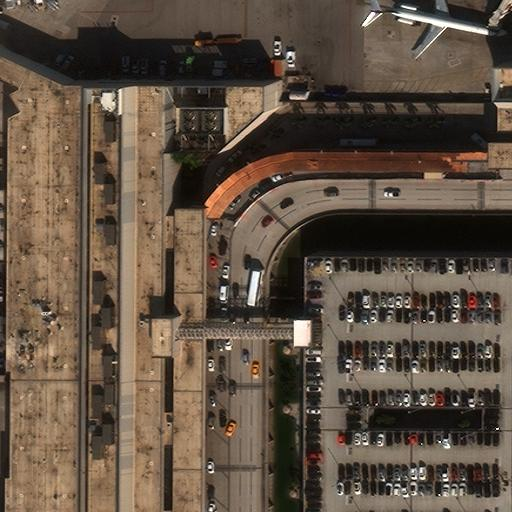Medium Civil Transport: (369, 0, 507, 59)
